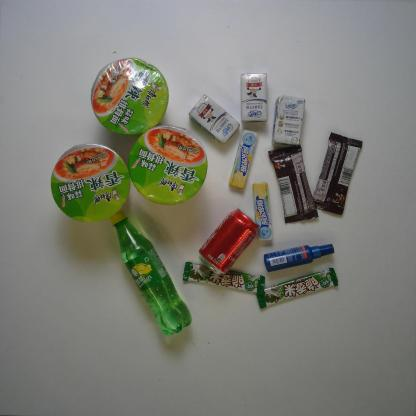Candy: (226, 128, 258, 192), (248, 180, 274, 243)
Chocolate: (310, 129, 366, 218), (266, 143, 321, 226), (254, 266, 341, 311), (180, 258, 267, 298)
Drink: (105, 206, 194, 339), (196, 207, 263, 276)
Instant Noodles: (126, 122, 210, 206), (48, 141, 132, 224), (89, 55, 171, 137)
Milk: (186, 94, 242, 145), (270, 91, 306, 149), (236, 69, 271, 125)
Personal Hygiene: (262, 240, 338, 275)
